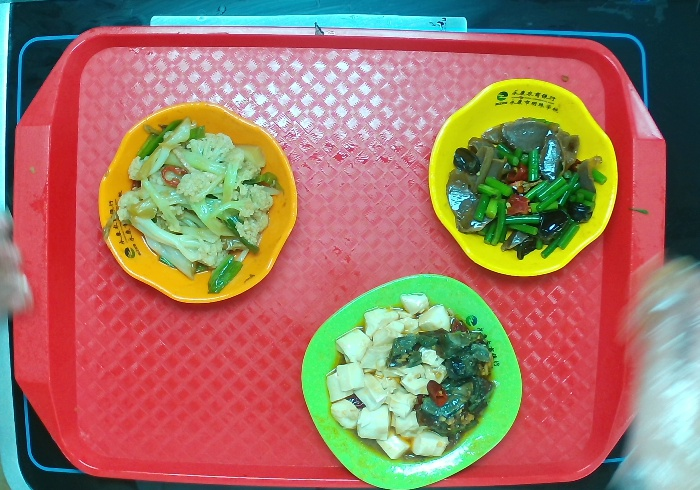YKMZ-Huang_Se_Ao_Bian_Wan: (426, 76, 622, 278)
YKMZ-Ju_Se_Ao_Bian_Wan: (97, 100, 299, 306)
YKMZ-Lv_Se_Fang_Die: (300, 273, 525, 490)
